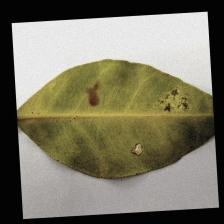black spot: (69, 78, 116, 111)
